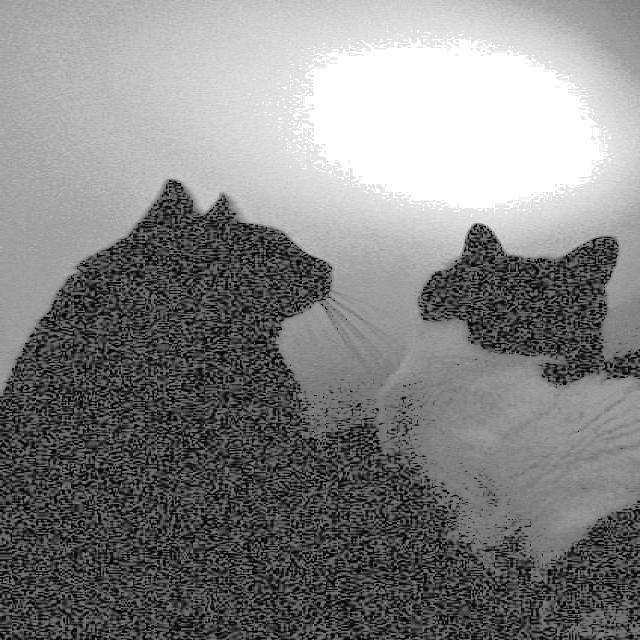Cat: (0, 188, 388, 640), (407, 208, 640, 608)
